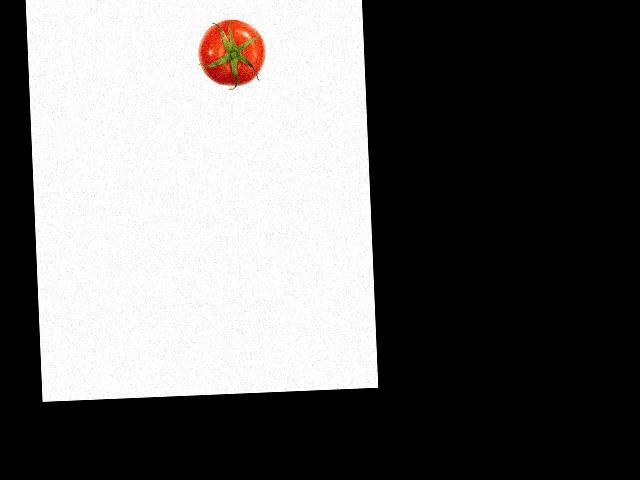tomato: (196, 17, 266, 87)
